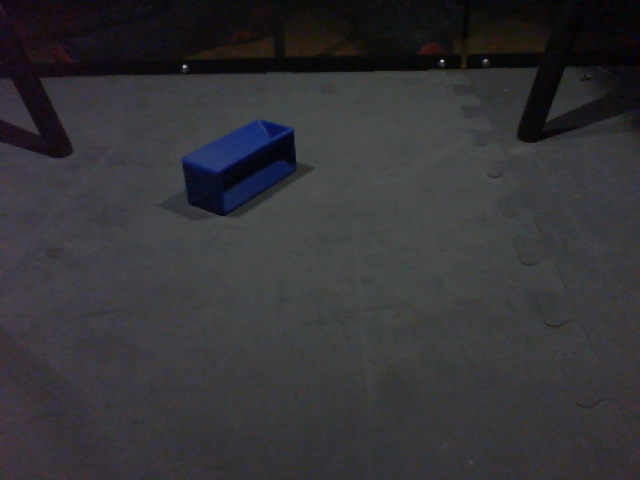BlueSample: (181, 118, 302, 219)
